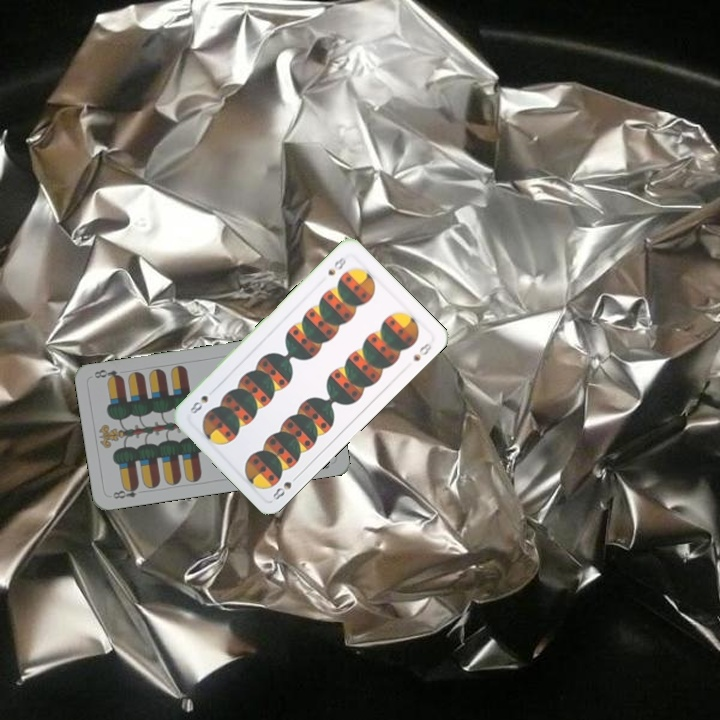E8: (109, 481, 147, 502)
S8: (269, 470, 302, 502), (323, 252, 349, 278)
